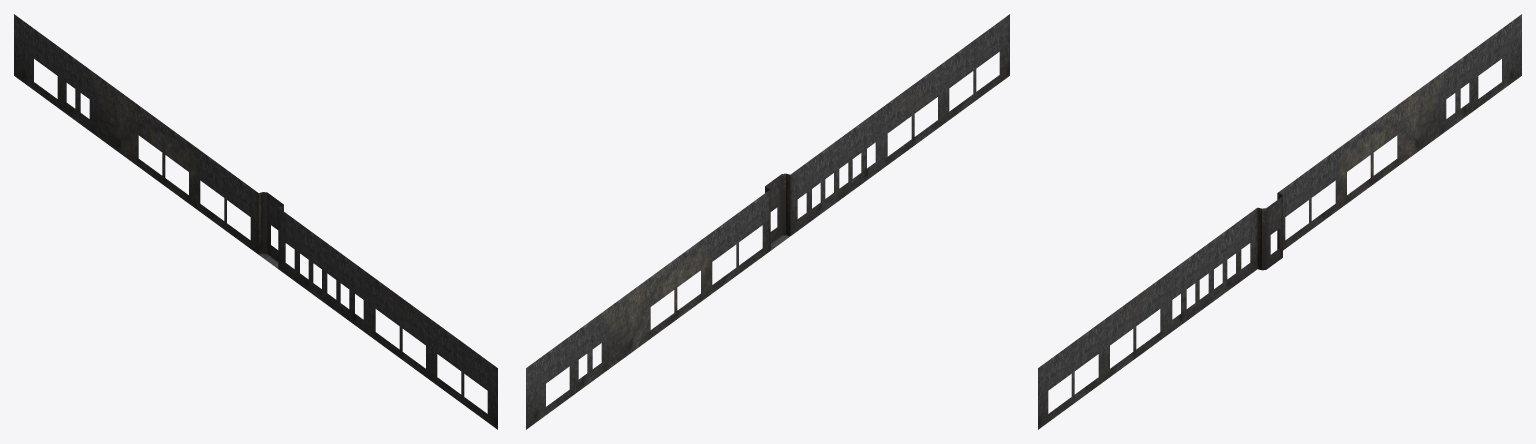
Rendered from Wall_01.FBX.
The picture shows the model from 3 angles, left to right: view 1: azimuth 30°, elevation 25°; view 2: azimuth 150°, elevation 25°; view 3: azimuth 330°, elevation 25°; orthographic projection.
Visible parts, largest first — view 1: Wall_01; view 2: Wall_01; view 3: Wall_01.
Part boxes in pixels (<box>): Wall_01: <box>14,14,497,429</box>; Wall_01: <box>526,14,1009,429</box>; Wall_01: <box>1038,14,1521,429</box>.
Size of the model in its own units: 62.38 by 511 by 7265.
1 material, 1 textured.
